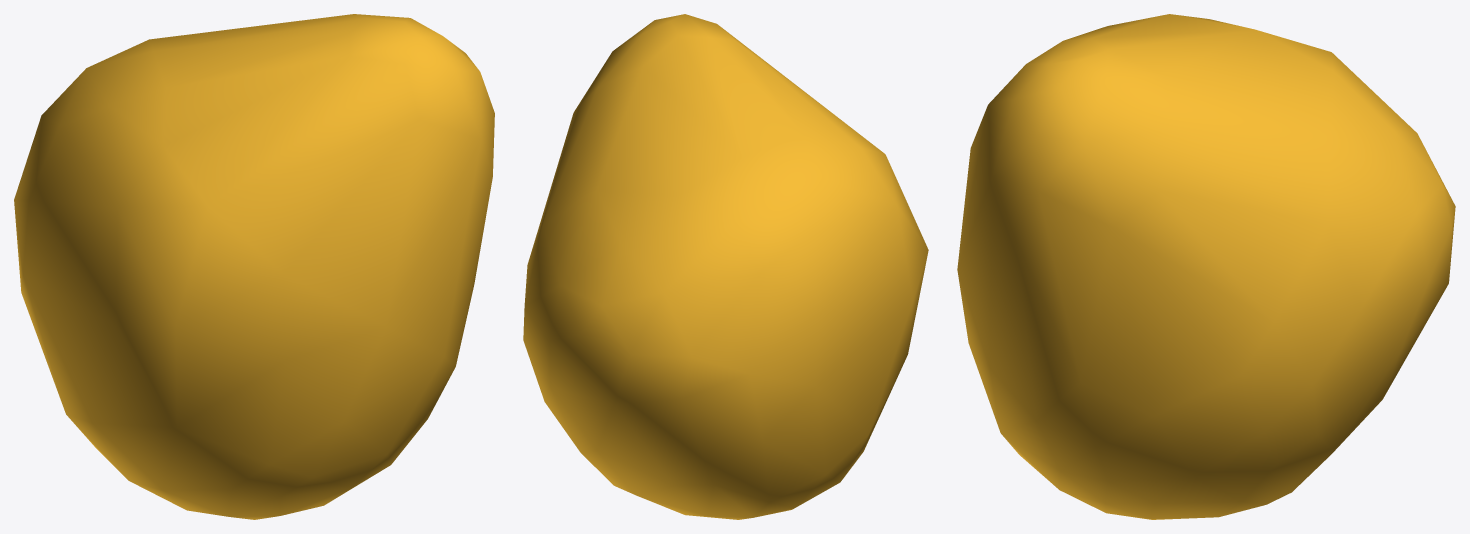
Rendered from nervoso-mamillary-body-l.glb.
3 views of the same model, side by side, from view 1: azimuth 30°, elevation 25°; view 2: azimuth 150°, elevation 25°; view 3: azimuth 270°, elevation 25° (orthographic). The views are drawn at different scales.
Visible parts, largest first — view 1: Mamillary body.l; view 2: Mamillary body.l; view 3: Mamillary body.l.
Boxes of the visible parts, bbox=[...] form: Mamillary body.l: bbox=[14, 14, 494, 519]; Mamillary body.l: bbox=[523, 14, 928, 519]; Mamillary body.l: bbox=[957, 14, 1455, 519].
Bounding box in the file's own units: 0.00384 × 0.00487 × 0.00443.
